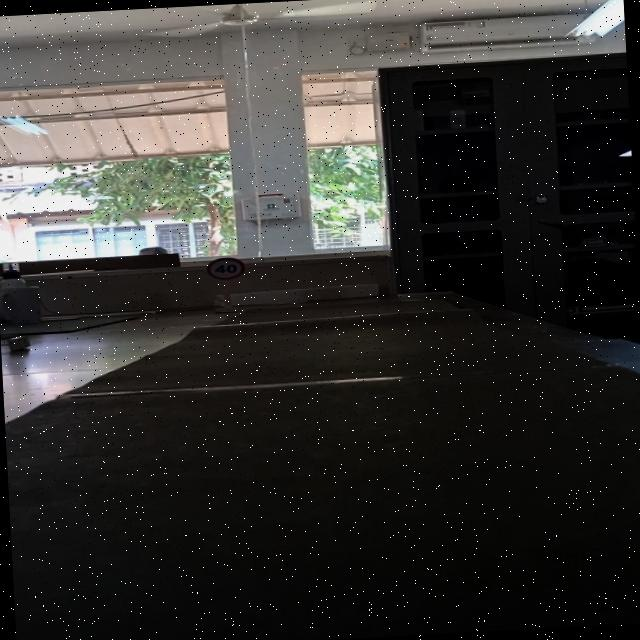Speed40: (202, 255, 248, 282)
